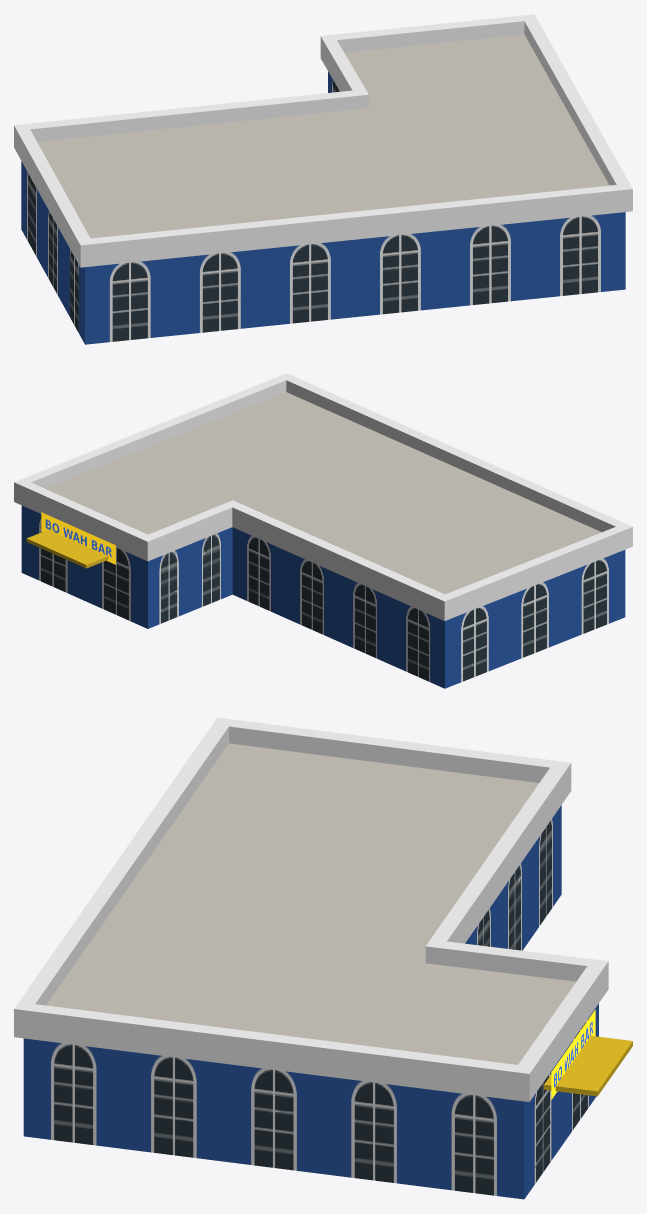
File: bowahbar.glb
3 views of the same model, one above another, from view 1: azimuth 30°, elevation 25°; view 2: azimuth 150°, elevation 25°; view 3: azimuth 270°, elevation 25° (orthographic). The views are drawn at different scales.
Parts seen in each view (by area): view 1: bowahbar_lod0; view 2: bowahbar_lod0; view 3: bowahbar_lod0.
Part boxes in pixels (<box>): bowahbar_lod0: <box>14,14,632,344</box>; bowahbar_lod0: <box>14,373,632,688</box>; bowahbar_lod0: <box>14,717,632,1199</box>.
Size of what is drawn, in the model's own units: 27.12 by 4.6 by 19.9.
Materials: 5 (2 with a texture image).
